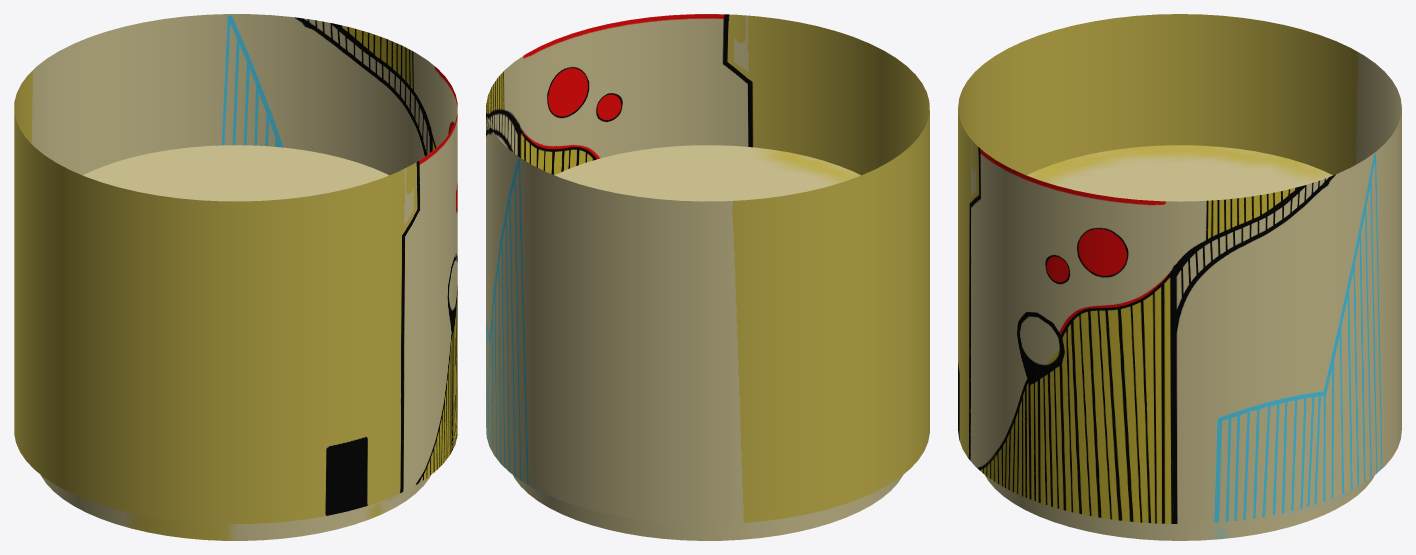
File: drumsetV4_MidDrumBody.obj
3 views of the same model, side by side, from view 1: azimuth 30°, elevation 25°; view 2: azimuth 150°, elevation 25°; view 3: azimuth 270°, elevation 25° (orthographic).
Parts seen in each view (by area): view 1: drumsetV4_MidDrumBody_Cylinder.029; view 2: drumsetV4_MidDrumBody_Cylinder.029; view 3: drumsetV4_MidDrumBody_Cylinder.029.
Part boxes in pixels (left/top/right/bottom): drumsetV4_MidDrumBody_Cylinder.029: left=14, top=14, right=457, bottom=540; drumsetV4_MidDrumBody_Cylinder.029: left=486, top=14, right=929, bottom=540; drumsetV4_MidDrumBody_Cylinder.029: left=958, top=14, right=1401, bottom=540.
Size of the model in its own units: 1.36 by 1.18 by 1.36.
